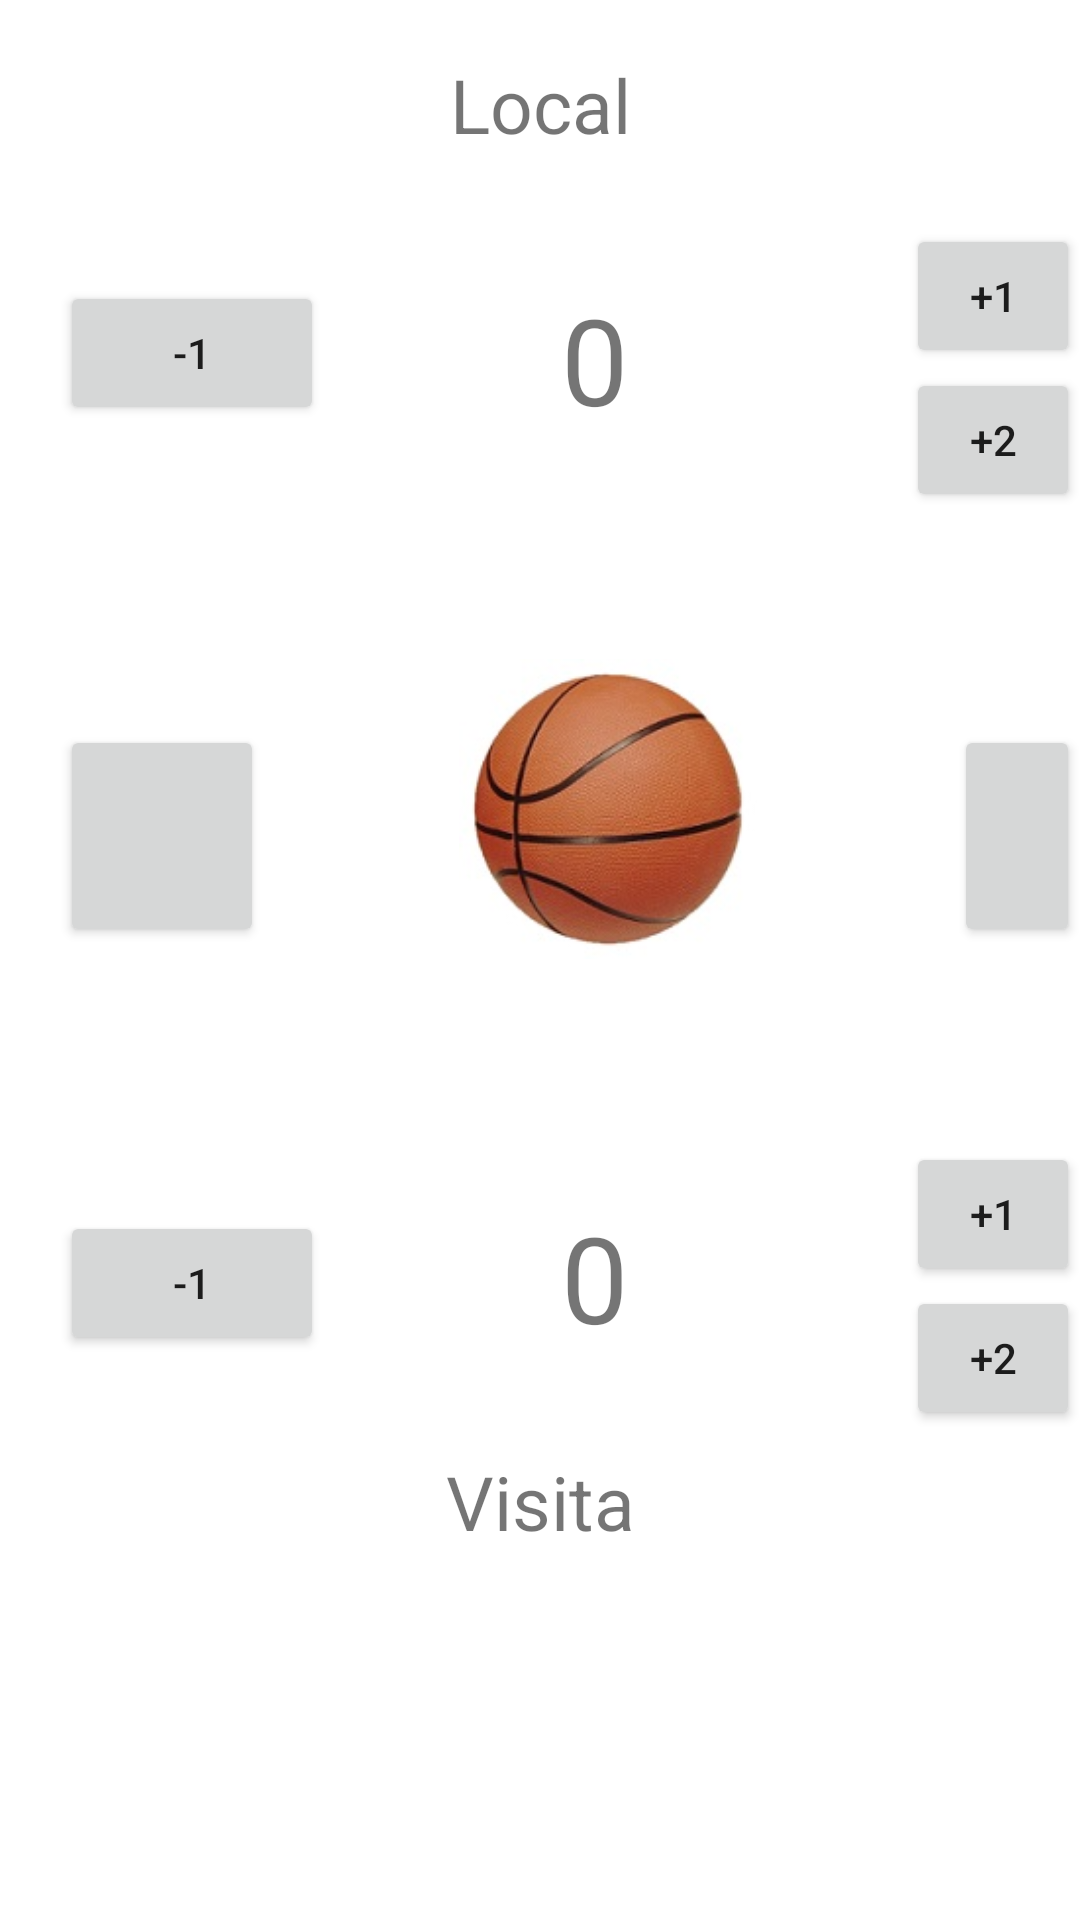

Screen size 1080x1920. Icon name, then its center in pixels as (x=x, y=y):
ball: (x=607, y=809)
